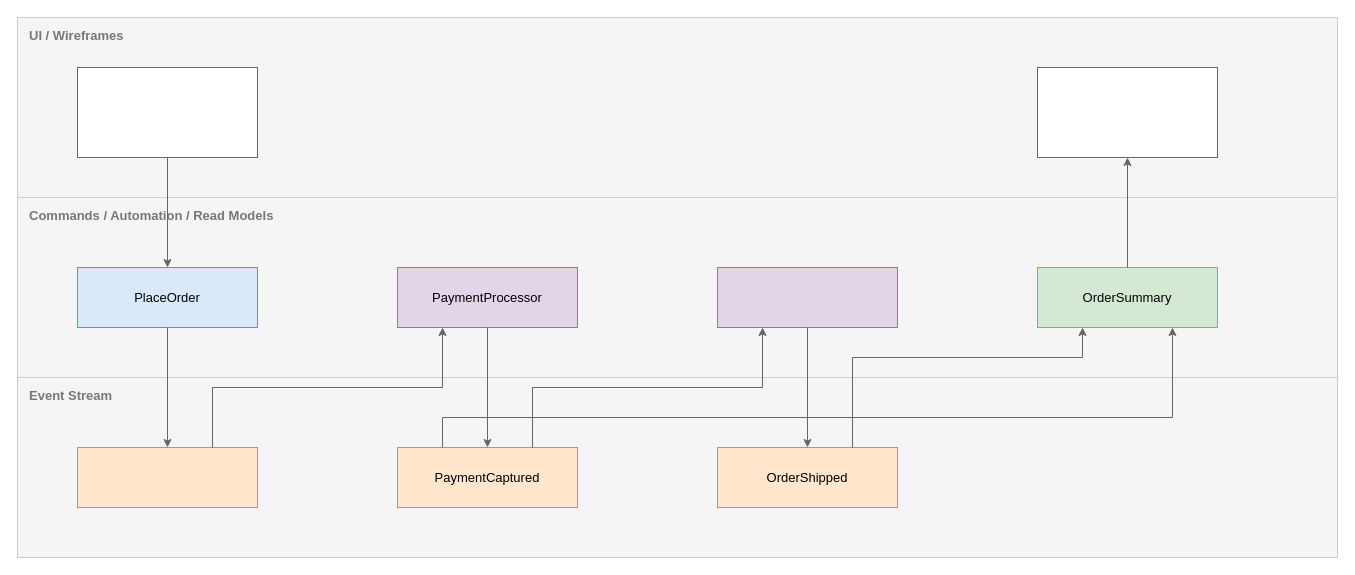
The diagram is 1355 pixels wide and 575 high, and some of its shapes have lost their labels. The centre of each missing label's shape, as x and y in pixels:
Checkout Page: point 167,112
Order Confirmation: point 1127,112
OrderPlaced: point 167,477
ShippingProcessor: point 807,297
